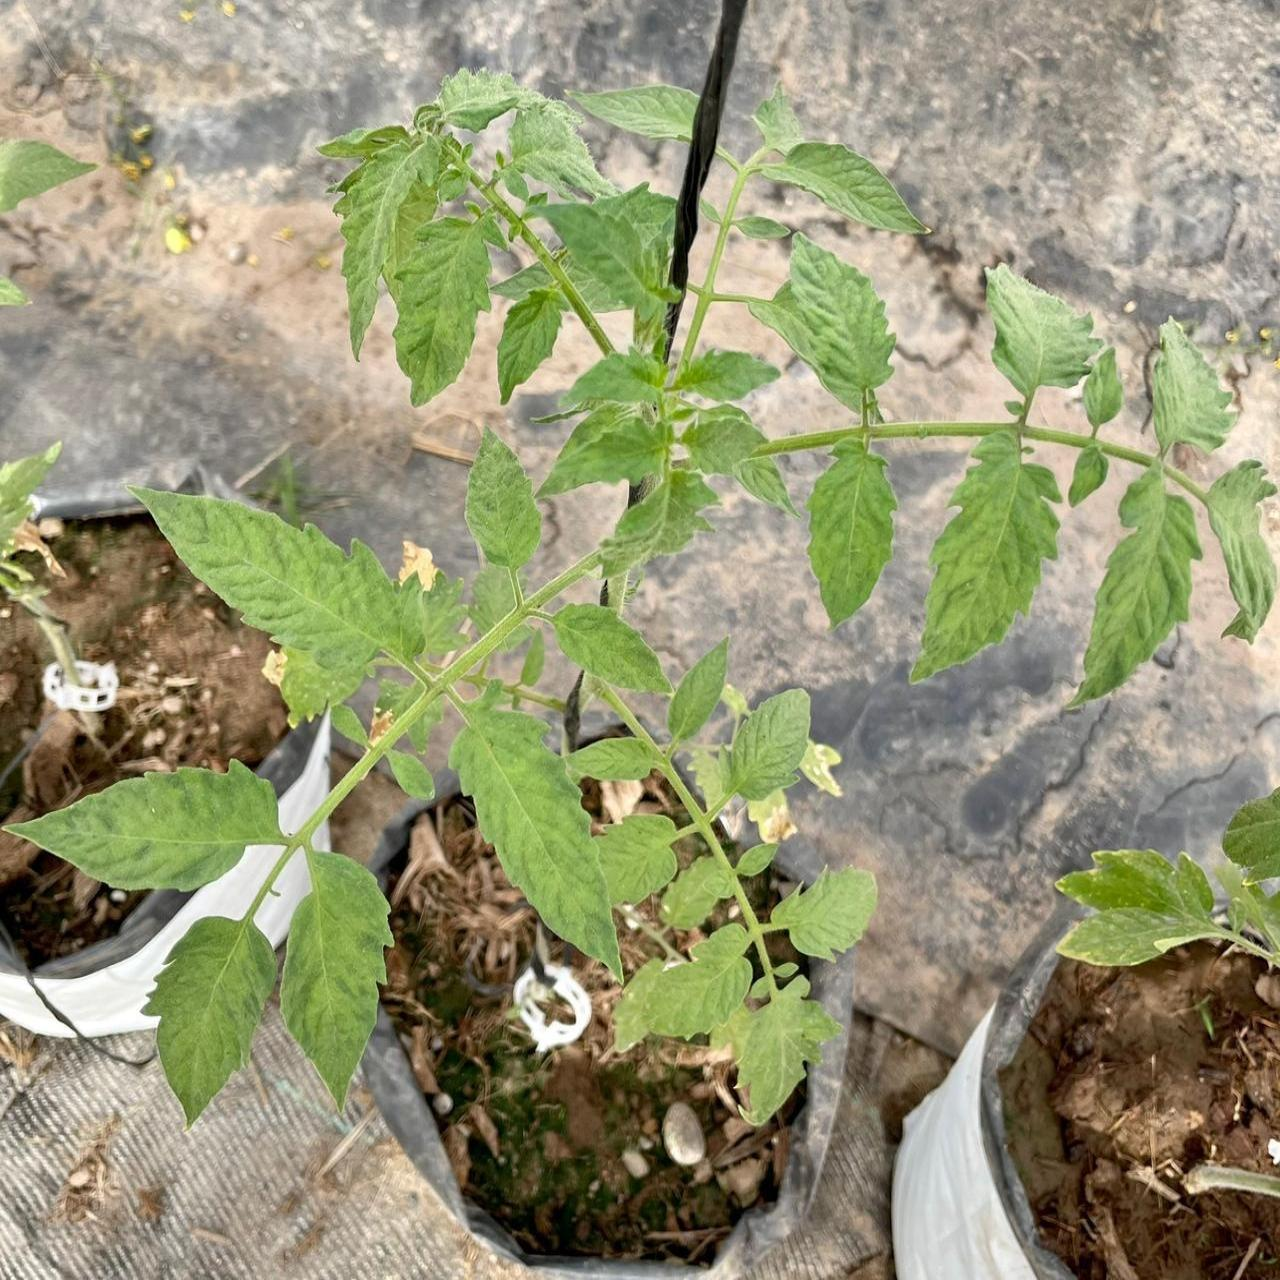T_L_R: (125, 486, 472, 727), (449, 712, 629, 986), (911, 433, 1061, 682), (15, 761, 284, 892), (1075, 464, 1204, 704), (281, 849, 394, 1108), (147, 917, 279, 1126), (336, 137, 441, 355), (399, 216, 501, 404), (791, 234, 896, 413), (617, 925, 754, 1050), (989, 265, 1101, 418), (809, 440, 899, 625), (761, 143, 930, 234), (738, 978, 840, 1126), (601, 470, 719, 579), (546, 203, 661, 309), (685, 404, 796, 513), (542, 404, 669, 497), (1058, 851, 1214, 922), (1155, 320, 1235, 456), (467, 433, 542, 573), (554, 602, 670, 692), (511, 105, 617, 200), (1058, 908, 1226, 966), (771, 871, 879, 960), (731, 692, 811, 799), (499, 287, 568, 404), (597, 816, 679, 906), (436, 69, 546, 135), (574, 86, 699, 143), (669, 639, 727, 742), (564, 350, 663, 407), (679, 353, 781, 402), (568, 737, 654, 781)
T_S_R: (394, 595, 535, 737), (762, 423, 1155, 467), (509, 215, 614, 355), (319, 737, 399, 821), (529, 552, 604, 612)
